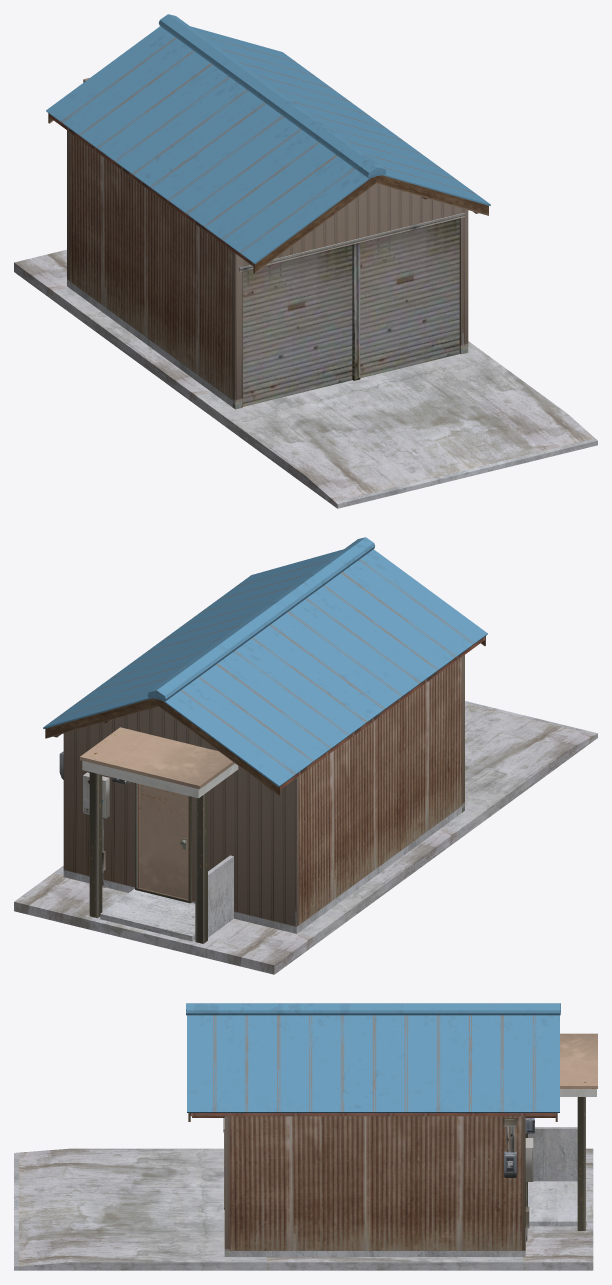
File: house_garage01.fbx
The picture shows the model from 3 angles, top to bottom: view 1: azimuth 30°, elevation 25°; view 2: azimuth 150°, elevation 25°; view 3: azimuth 270°, elevation 25°; orthographic projection. The views are drawn at different scales.
Parts seen in each view (by area): view 1: house_garage01; view 2: house_garage01; view 3: house_garage01.
Boxes of the visible parts, x1,y1,x2,y2 form: house_garage01: [14, 14, 597, 508]; house_garage01: [14, 537, 597, 974]; house_garage01: [14, 1003, 597, 1270].
Size of the model in its own units: 617 by 1339 by 539.
7 materials, 7 textured.
